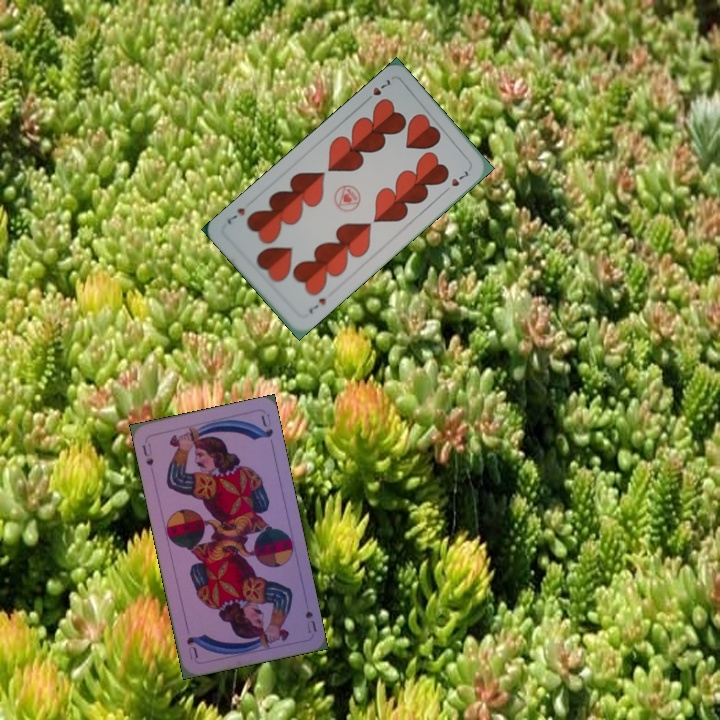H7: (360, 75, 393, 105), (305, 294, 329, 317)
SU: (301, 607, 319, 636), (138, 439, 156, 468)
